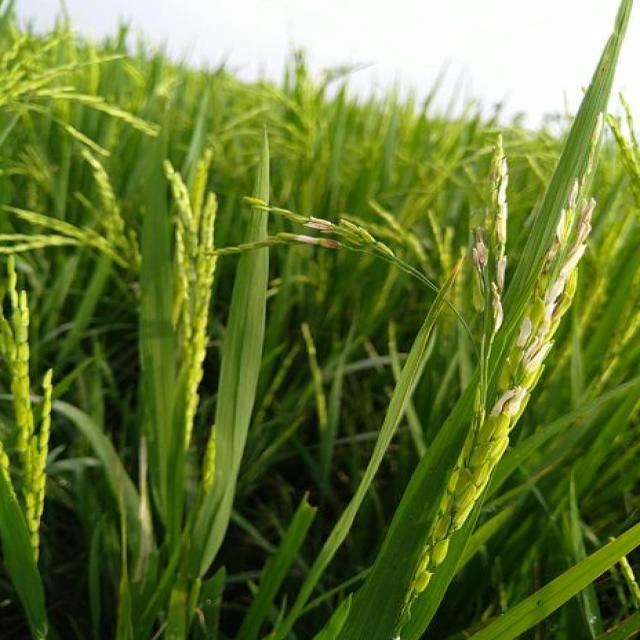Leaf Blight: (132, 442, 154, 583), (430, 257, 463, 314)
Panicle Blight: (537, 197, 596, 342), (473, 134, 508, 331), (488, 385, 531, 428), (521, 339, 553, 377), (291, 235, 342, 250), (302, 216, 341, 233), (519, 316, 532, 350)
